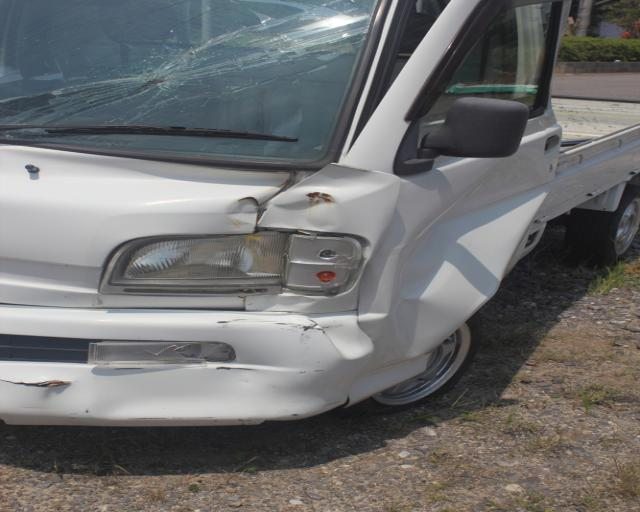crack: (0, 379, 70, 388), (341, 388, 351, 408)
dent: (390, 162, 544, 358), (86, 361, 327, 420), (257, 164, 395, 232), (308, 313, 372, 358), (246, 295, 319, 312), (228, 197, 260, 228)
lamp broken: (115, 234, 359, 291), (88, 340, 236, 365)
scratch: (216, 317, 326, 334)
